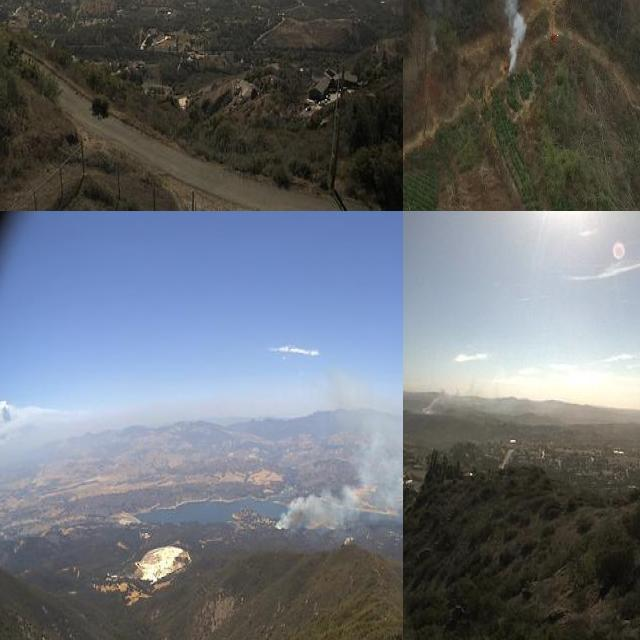smoke: (275, 367, 403, 534), (415, 372, 507, 417)
